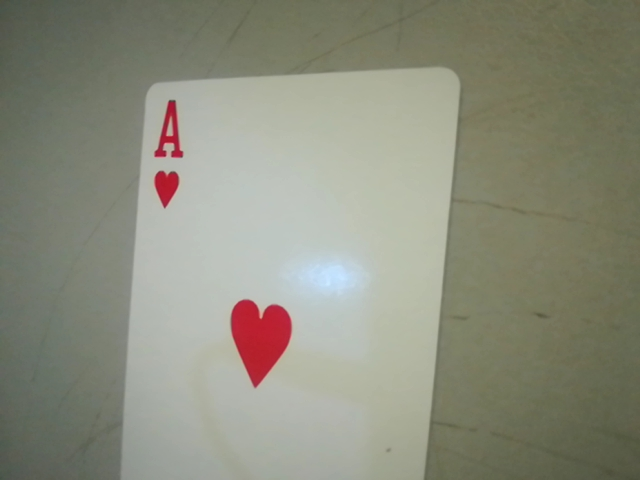hx a: (137, 91, 199, 217)
